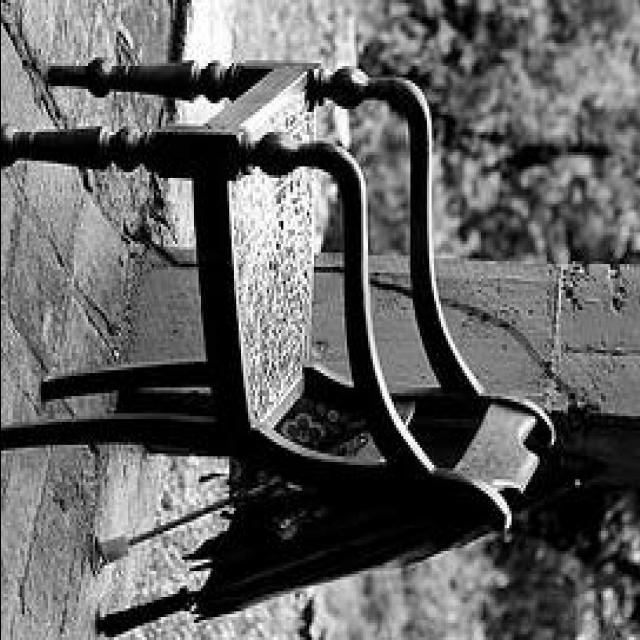chair: (2, 54, 562, 540)
